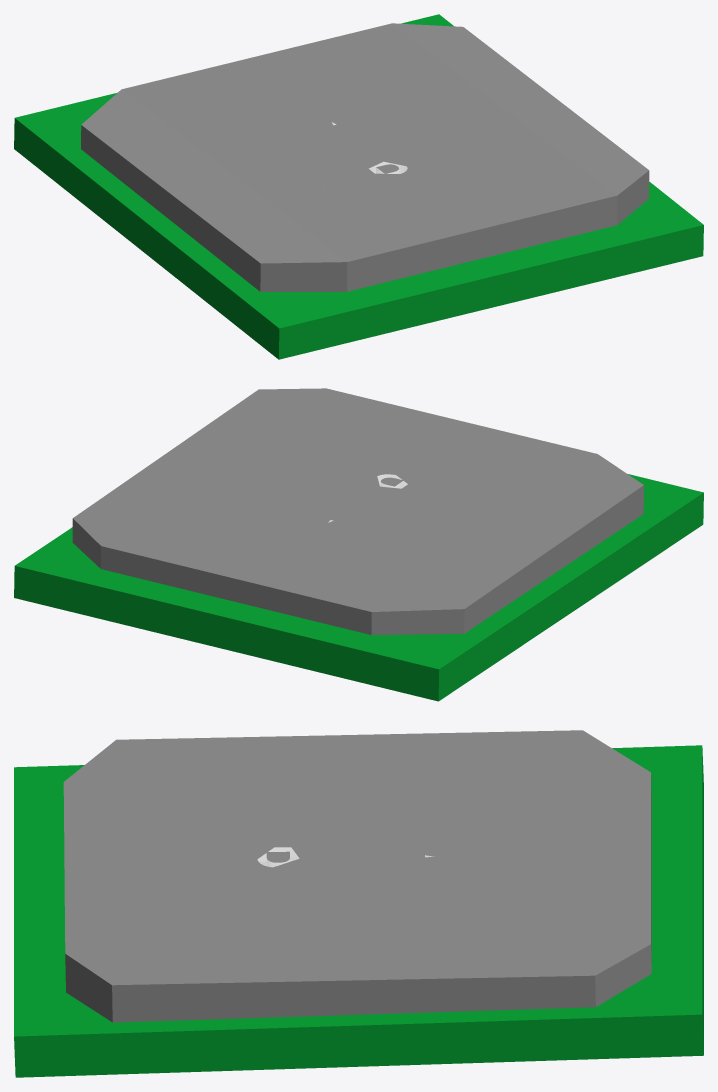
The model's file is CPU1.fbx.
3 views of the same model, one above another, from view 1: azimuth 30°, elevation 25°; view 2: azimuth 150°, elevation 25°; view 3: azimuth 270°, elevation 25° (orthographic). The views are drawn at different scales.
Visible parts, largest first — view 1: Cube.001, Cube; view 2: Cube.001, Cube; view 3: Cube.001, Cube.
Boxes of the visible parts, <box> form: Cube.001: <box>81,23,649,291</box>; Cube: <box>14,14,703,359</box>; Cube.001: <box>72,388,643,634</box>; Cube: <box>14,474,703,701</box>; Cube.001: <box>63,730,651,1022</box>; Cube: <box>14,745,703,1077</box>.
Size of the model in its own units: 575 by 90.78 by 622.
